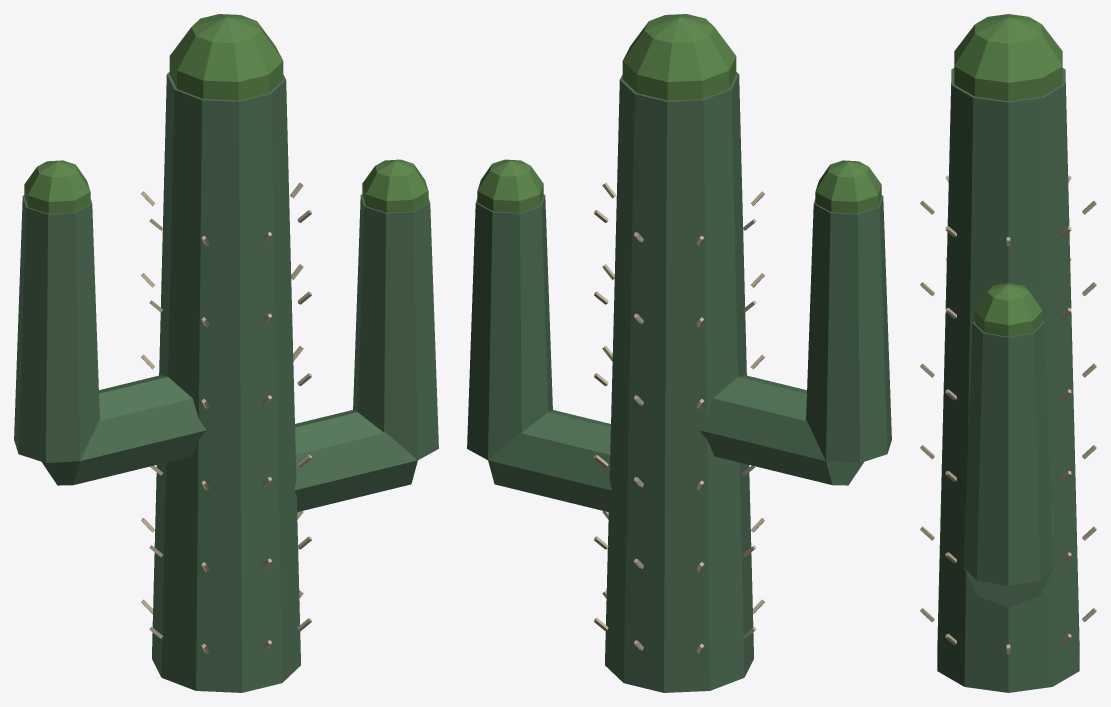
File: vegetation-cactus-branch.lod1.glb
The picture shows the model from 3 angles, left to right: view 1: azimuth 30°, elevation 25°; view 2: azimuth 150°, elevation 25°; view 3: azimuth 270°, elevation 25°; orthographic projection.
Parts seen in each view (by area): view 1: vegetation-cactus-branch__body; view 2: vegetation-cactus-branch__body; view 3: vegetation-cactus-branch__body.
Boxes of the visible parts, box(x1,y1,x2,y2) form: vegetation-cactus-branch__body: box(14, 14, 438, 692); vegetation-cactus-branch__body: box(467, 14, 891, 692); vegetation-cactus-branch__body: box(920, 14, 1096, 692).
Bounding box in the file's own units: 1.6 × 2.37 × 0.5883.
